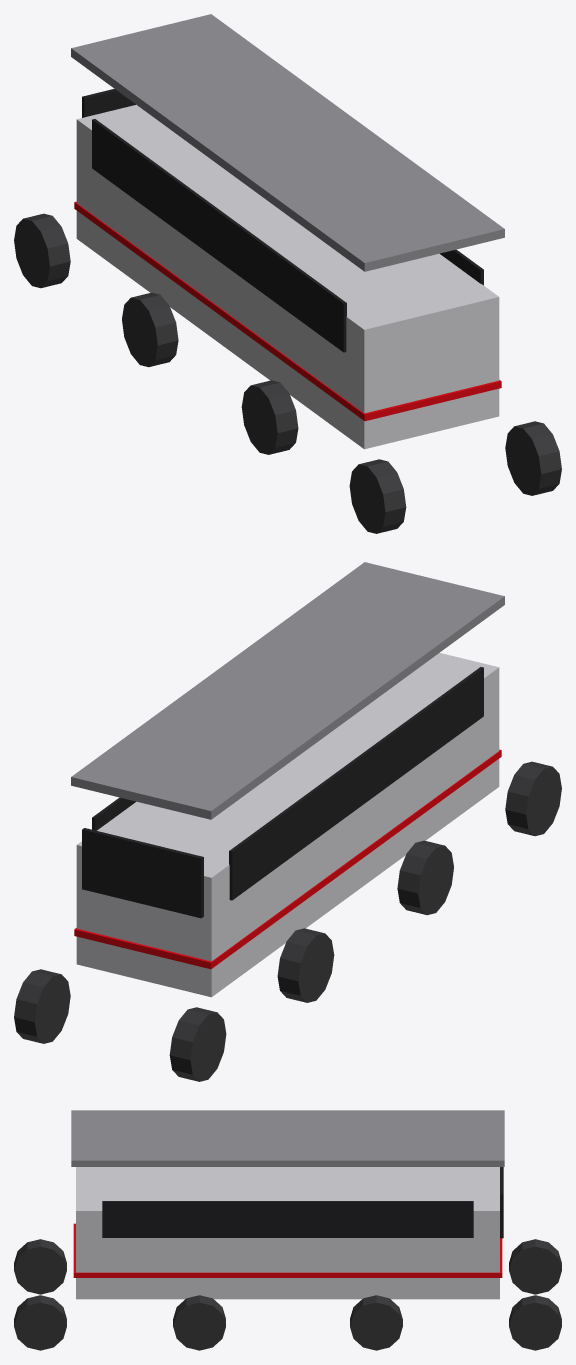
The model's file is transit_bus.glb.
The picture shows the model from 3 angles, top to bottom: view 1: azimuth 30°, elevation 25°; view 2: azimuth 150°, elevation 25°; view 3: azimuth 270°, elevation 25°; orthographic projection. The views are drawn at different scales.
Parts seen in each view (by area): view 1: Bus_Body, Bus_Roof, Bus_WindowL, Bus_Stripe, Bus_Wheel_3_0, Bus_Wheel_1_0, Bus_Wheel_0_0, Bus_Wheel_2_0, Bus_Wheel_0_1, Bus_Windshield; view 2: Bus_Body, Bus_Roof, Bus_WindowL, Bus_Windshield, Bus_Stripe, Bus_Wheel_0_0, Bus_Wheel_2_0, Bus_Wheel_3_0, Bus_Wheel_1_0, Bus_Wheel_3_1; view 3: Bus_Body, Bus_Roof, Bus_WindowR, Bus_Stripe, Bus_Wheel_0_0, Bus_Wheel_3_0, Bus_Wheel_1_1, Bus_Wheel_2_1, Bus_Wheel_0_1, Bus_Wheel_3_1.
Boxes of the visible parts, x1=… form: Bus_Body: x1=76, y1=104, x2=499, y2=449; Bus_Roof: x1=71, y1=14, x2=504, y2=271; Bus_WindowL: x1=92, y1=119, x2=346, y2=352; Bus_Stripe: x1=74, y1=201, x2=501, y2=421; Bus_Wheel_3_0: x1=14, y1=213, x2=70, y2=288; Bus_Wheel_1_0: x1=241, y1=380, x2=298, y2=454; Bus_Wheel_0_0: x1=349, y1=459, x2=406, y2=533; Bus_Wheel_2_0: x1=122, y1=292, x2=178, y2=367; Bus_Wheel_0_1: x1=505, y1=421, x2=561, y2=495; Bus_Windshield: x1=82, y1=89, x2=135, y2=117; Bus_Body: x1=76, y1=652, x2=499, y2=997; Bus_Roof: x1=71, y1=562, x2=504, y2=819; Bus_WindowL: x1=229, y1=667, x2=483, y2=900; Bus_Windshield: x1=82, y1=828, x2=203, y2=918; Bus_Stripe: x1=74, y1=749, x2=501, y2=969; Bus_Wheel_0_0: x1=505, y1=761, x2=561, y2=836; Bus_Wheel_2_0: x1=277, y1=928, x2=334, y2=1002; Bus_Wheel_3_0: x1=169, y1=1007, x2=226, y2=1081; Bus_Wheel_1_0: x1=397, y1=840, x2=453, y2=915; Bus_Wheel_3_1: x1=14, y1=969, x2=70, y2=1043; Bus_Body: x1=76, y1=1167, x2=499, y2=1299; Bus_Roof: x1=71, y1=1110, x2=504, y2=1166; Bus_WindowR: x1=102, y1=1201, x2=473, y2=1237; Bus_Stripe: x1=73, y1=1223, x2=502, y2=1277; Bus_Wheel_0_0: x1=14, y1=1239, x2=66, y2=1294; Bus_Wheel_3_0: x1=509, y1=1239, x2=561, y2=1294; Bus_Wheel_1_1: x1=173, y1=1295, x2=225, y2=1350; Bus_Wheel_2_1: x1=350, y1=1295, x2=402, y2=1350; Bus_Wheel_0_1: x1=14, y1=1295, x2=66, y2=1350; Bus_Wheel_3_1: x1=509, y1=1295, x2=561, y2=1350.
Bounding box in the file's own units: 1.7 × 2.29 × 6.2.
